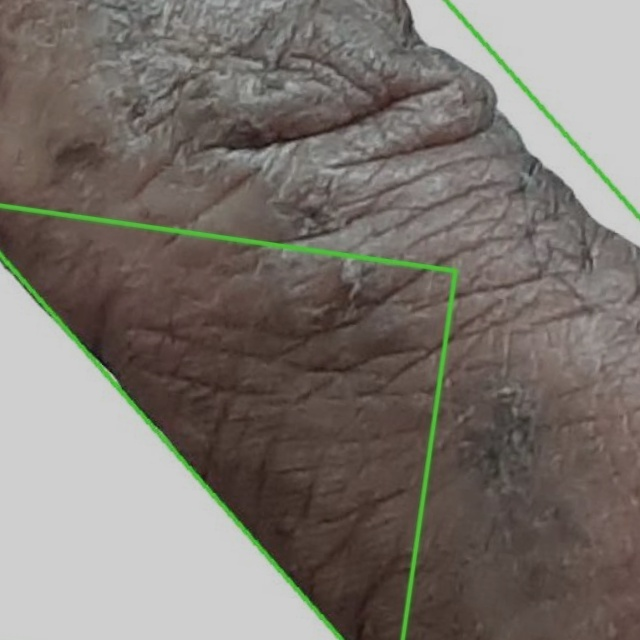Eczema: (0, 0, 639, 639), (0, 205, 455, 639)
